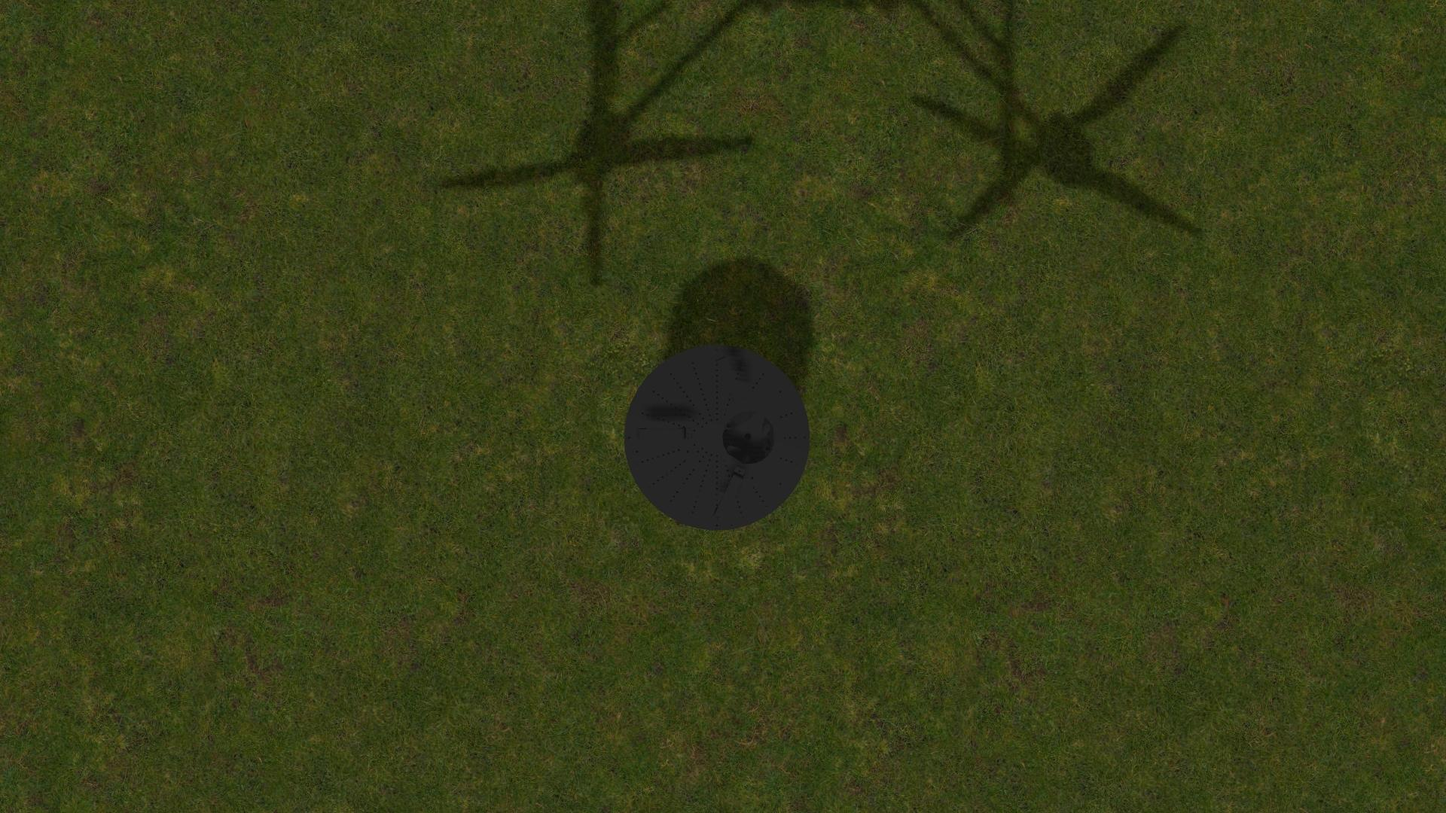alca: (711, 466, 746, 522), (714, 352, 747, 407), (634, 427, 692, 440)
armadilha: (624, 345, 810, 531)
